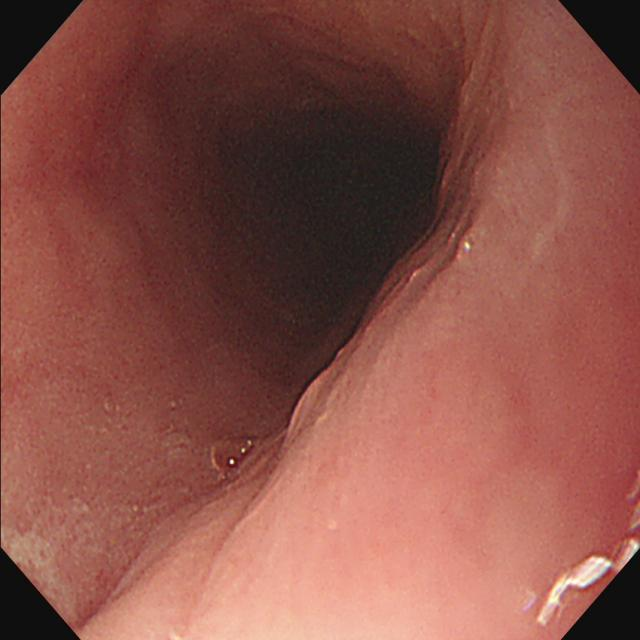E: (201, 73, 446, 340)
T: (207, 432, 260, 478)
U: (536, 537, 640, 629)
